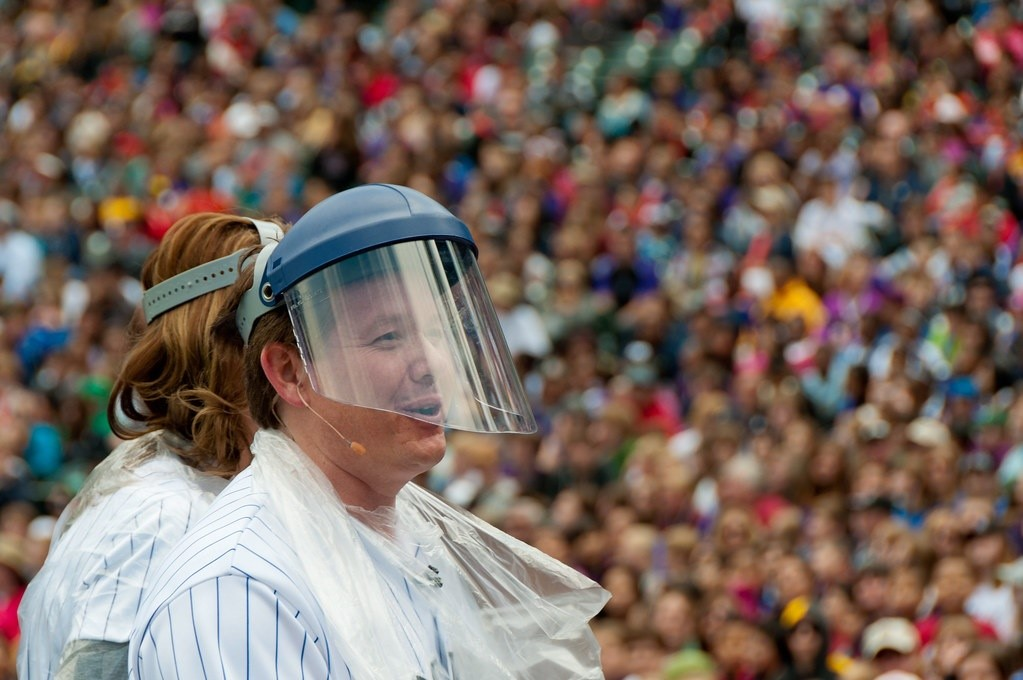face_no_mask: (246, 254, 451, 485)
